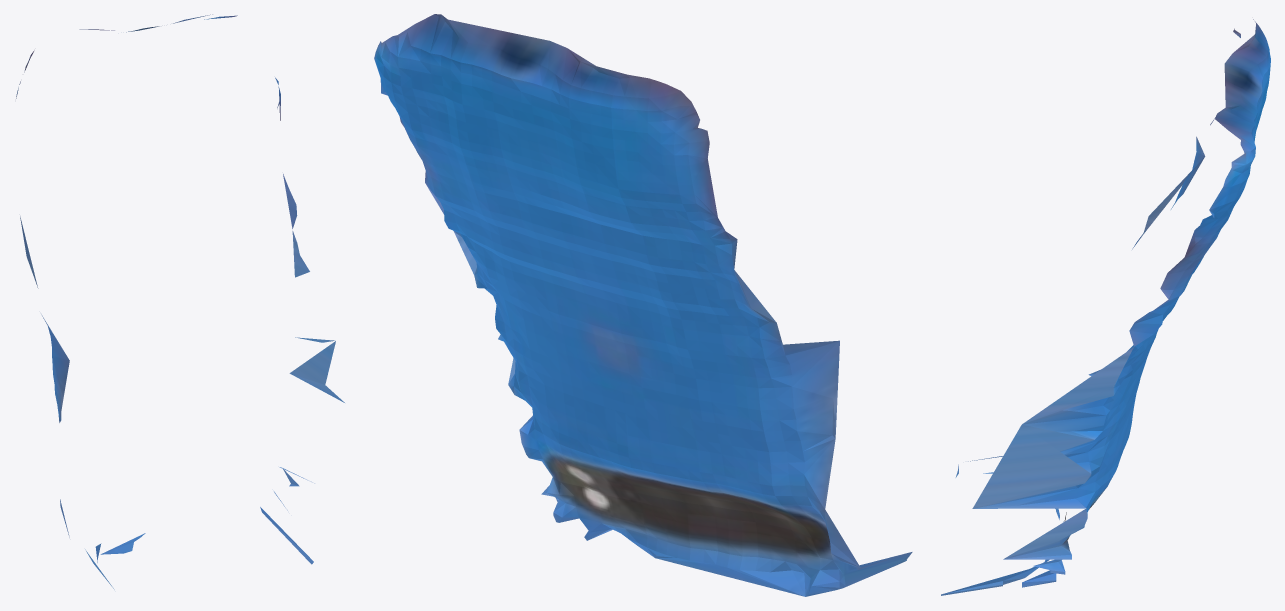
File: observed-surface.glb
3 views of the same model, side by side, from view 1: azimuth 30°, elevation 25°; view 2: azimuth 150°, elevation 25°; view 3: azimuth 270°, elevation 25° (orthographic). The views are drawn at different scales.
Visible parts, largest first — view 1: geometry_0; view 2: geometry_0; view 3: geometry_0.
Boxes of the visible parts, bbox=[...] form: geometry_0: bbox=[16, 14, 344, 589]; geometry_0: bbox=[374, 14, 912, 596]; geometry_0: bbox=[941, 19, 1270, 595].
Bounding box in the file's own units: 0.2809 × 0.4322 × 0.2513.
Materials: 1 (1 with a texture image).
